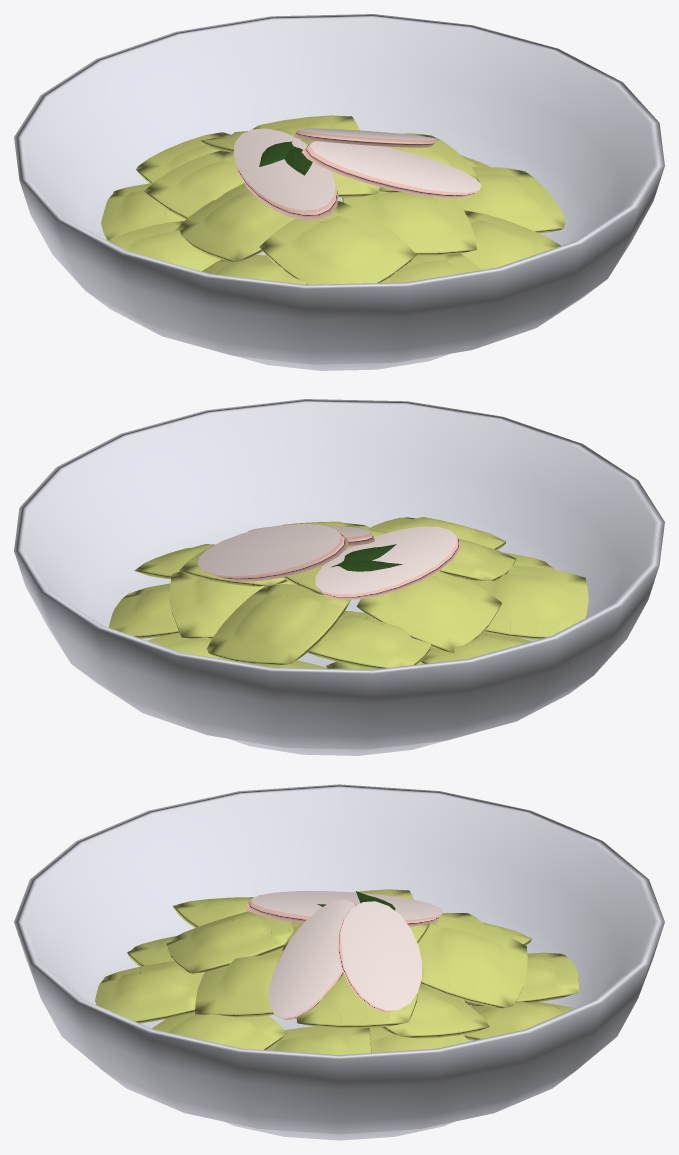
File: agnolotti_pasta.fbx
The picture shows the model from 3 angles, top to bottom: view 1: azimuth 30°, elevation 25°; view 2: azimuth 150°, elevation 25°; view 3: azimuth 270°, elevation 25°; orthographic projection.
Parts seen in each view (by area): view 1: finished_product; view 2: finished_product; view 3: finished_product.
Part boxes in pixels (bbox=[...]): finished_product: bbox=[14, 14, 664, 370]; finished_product: bbox=[14, 399, 664, 755]; finished_product: bbox=[14, 784, 664, 1140].
Size of the model in its own units: 17.68 by 4.69 by 17.68.
